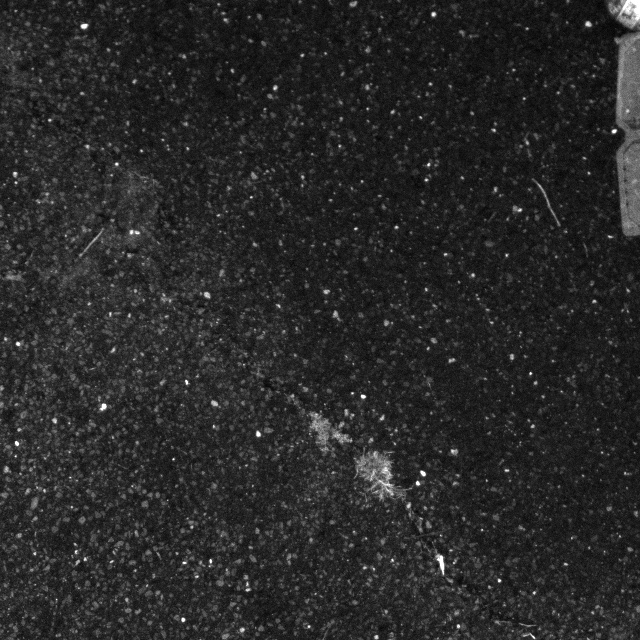bottle: (588, 0, 640, 51)
